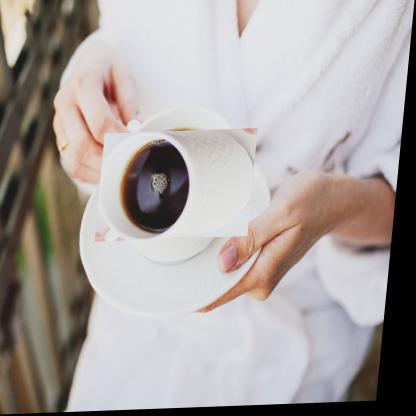non_milk_based_beverage: (109, 118, 252, 254)
